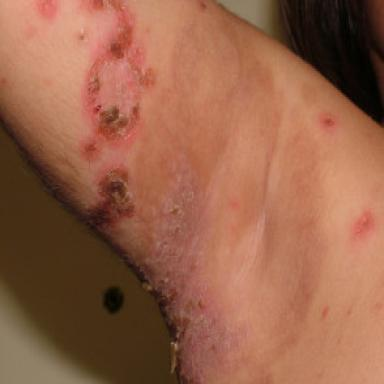Impetigo: (117, 157, 239, 382), (77, 0, 157, 163), (85, 159, 137, 233), (37, 0, 58, 19), (77, 28, 86, 42)
